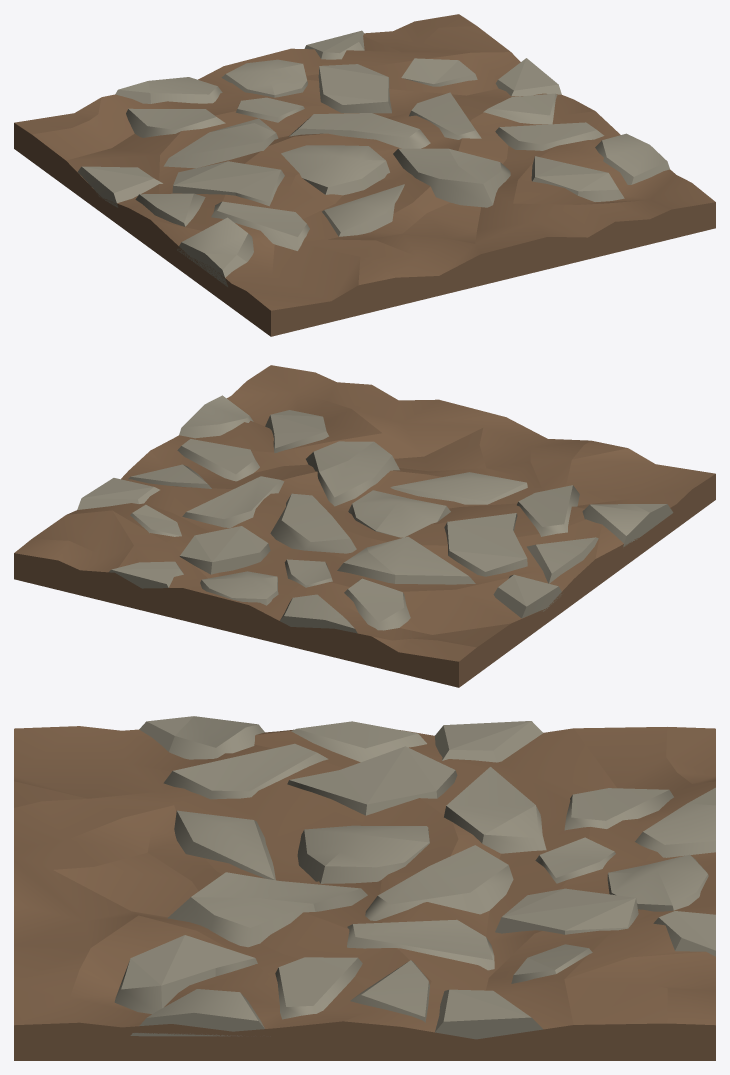
Rendered from Ground_Stone_Path_Crossroads_U.glb.
3 views of the same model, one above another, from view 1: azimuth 30°, elevation 25°; view 2: azimuth 150°, elevation 25°; view 3: azimuth 270°, elevation 25° (orthographic). The views are drawn at different scales.
Visible parts, largest first — view 1: Ground_Stone_Path_Crossroads_U; view 2: Ground_Stone_Path_Crossroads_U; view 3: Ground_Stone_Path_Crossroads_U.
Part boxes in pixels (<box>): Ground_Stone_Path_Crossroads_U: <box>14,14,715,336</box>; Ground_Stone_Path_Crossroads_U: <box>14,365,715,687</box>; Ground_Stone_Path_Crossroads_U: <box>14,716,715,1060</box>.
Size of the model in its own units: 1.47 by 0.1486 by 1.47.
